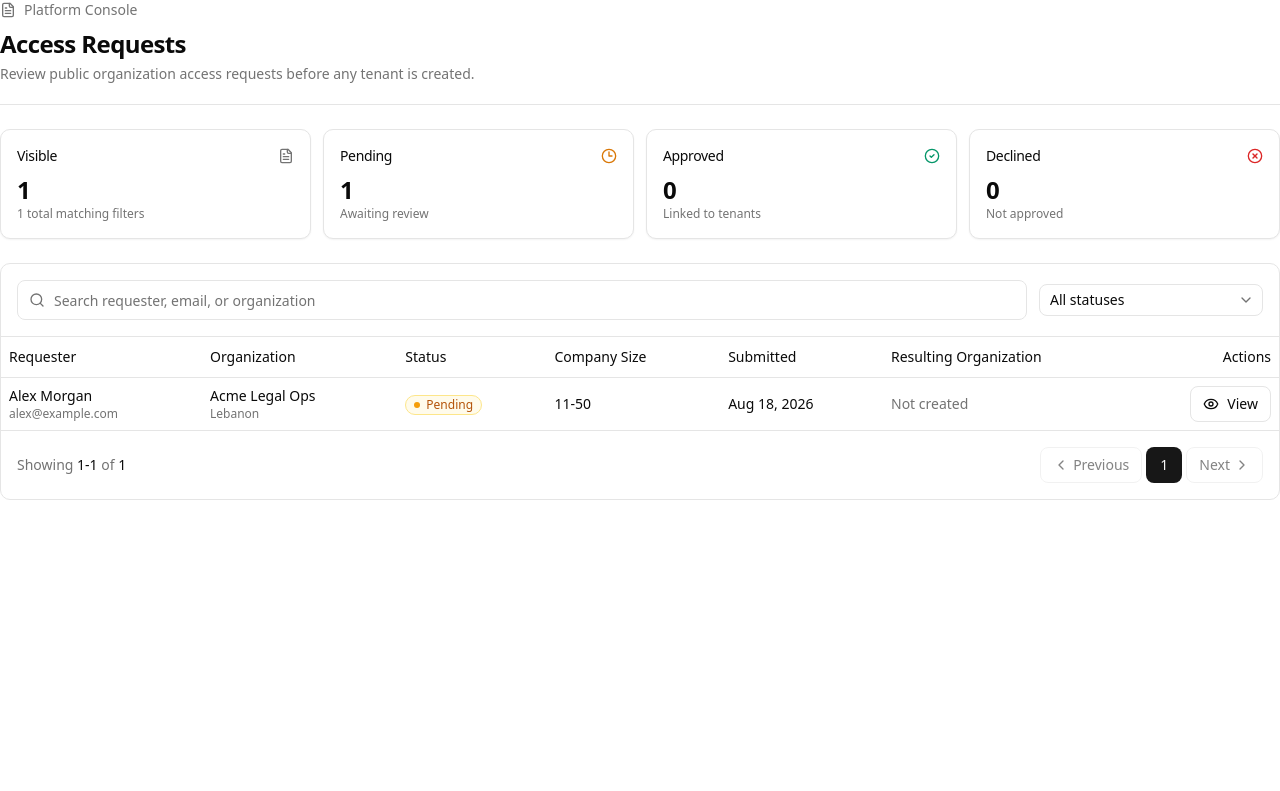
Test case: PlatformAccessRequests › opens the detail sheet for an access request
This screenshot has width=1280, height=791.
What coordinates should you click on to do the following:
click the button "View"
I would click on:
 (1231, 404)
Its box is [1190,386,1271,422].
(page scrolled)
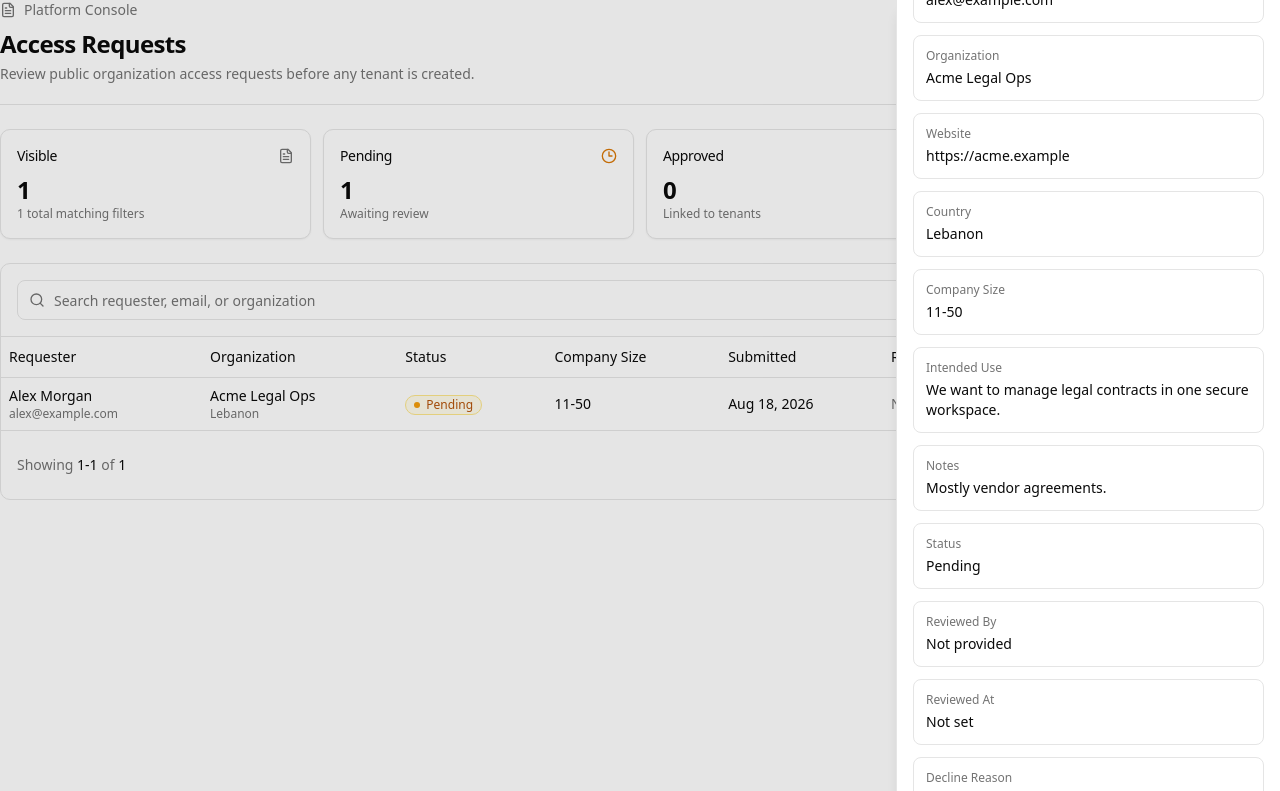
Now the text "We want to manage legal contracts in one secure workspace." is shown, box [926,380,1251,420]
